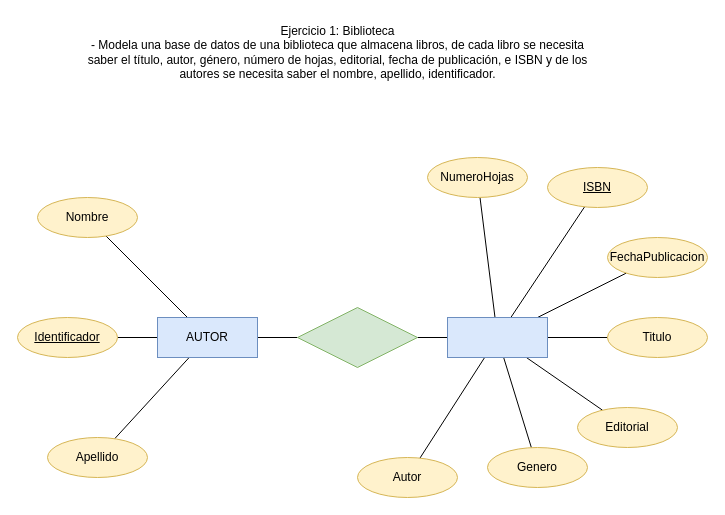
Image size: 725x515. Some labels were removed from this diagram. Each missing label, with the centre of its shape:
Escribe: (357,337)
LIBRO: (497,337)
